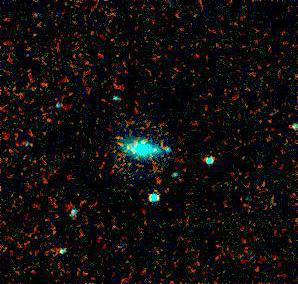star: (130, 125, 160, 155)
